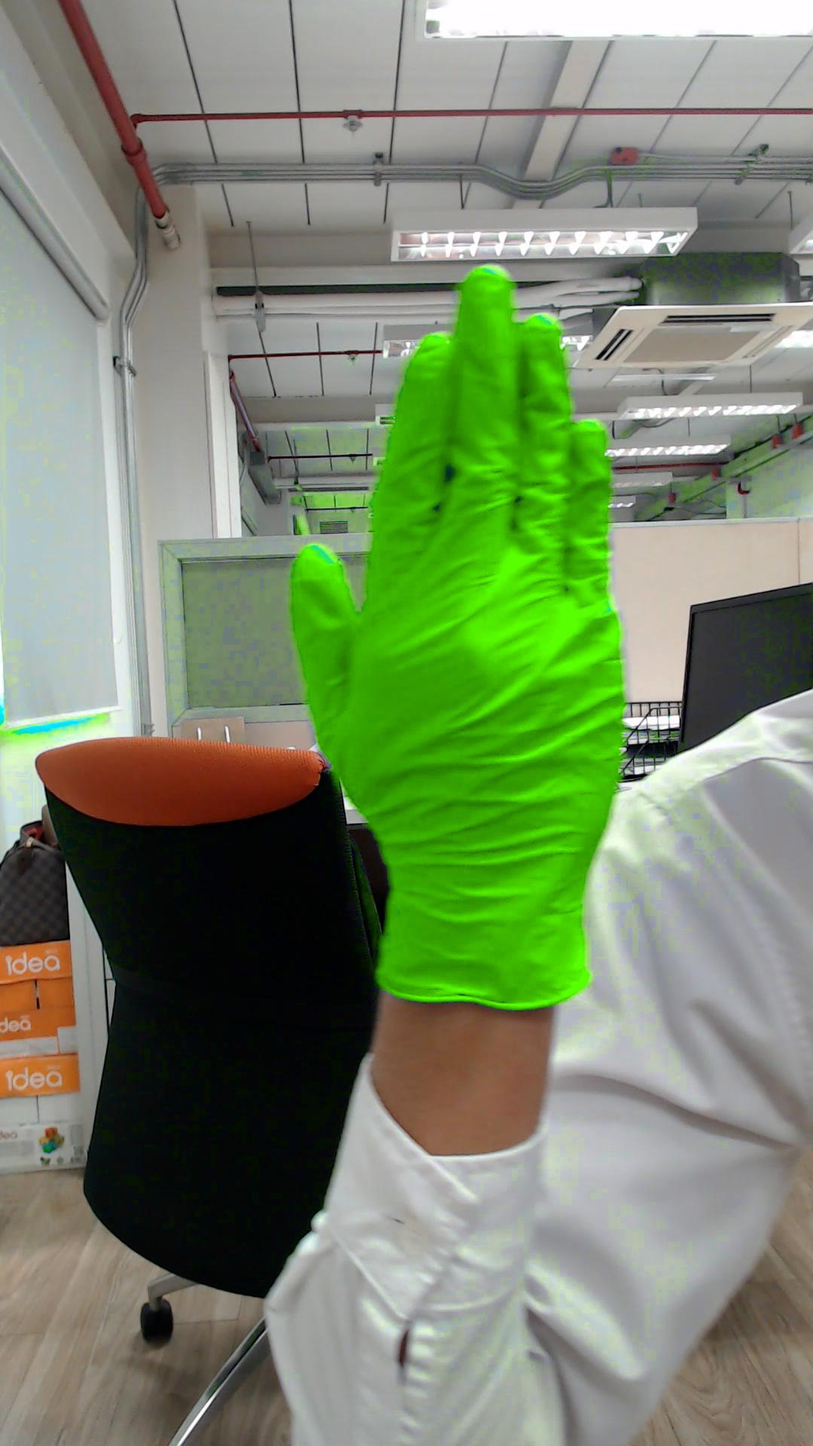gloves: (276, 249, 640, 866)
